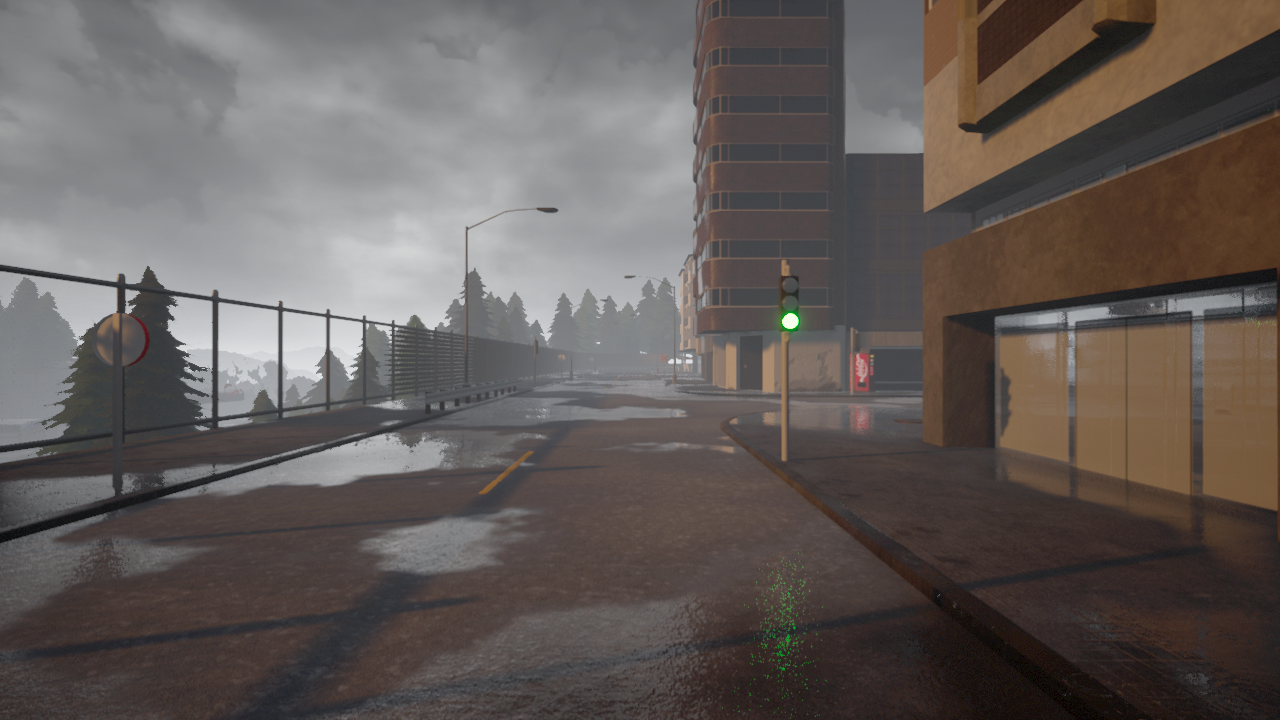green: (777, 272, 802, 334)
